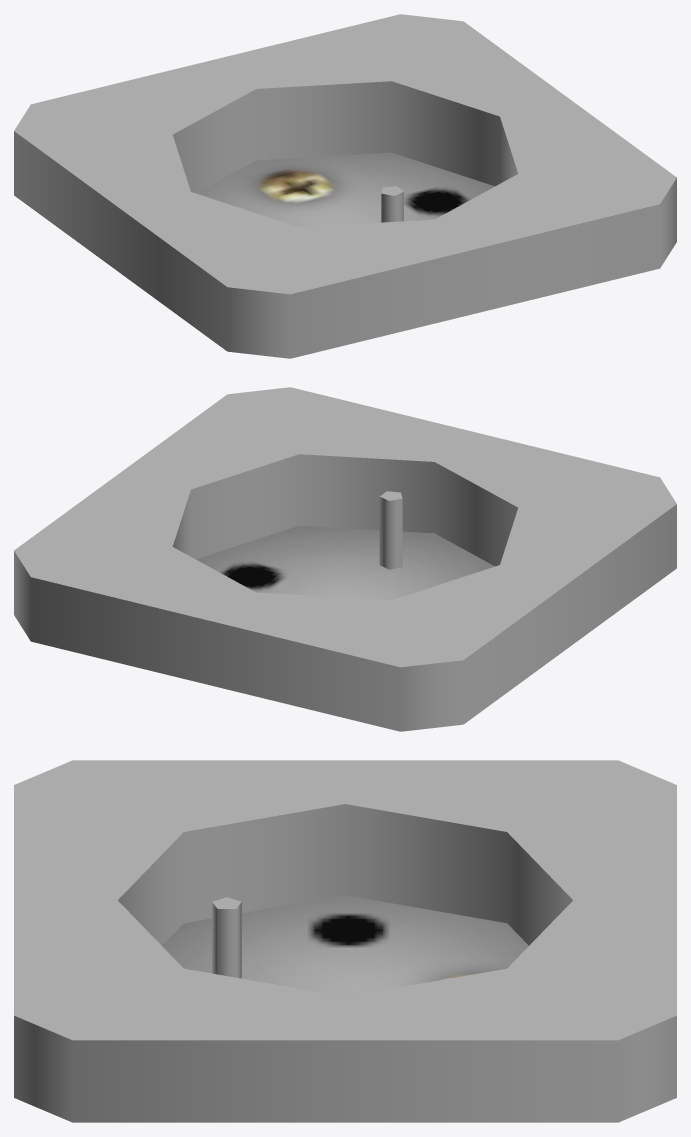
File: socket_power.FBX
3 views of the same model, one above another, from view 1: azimuth 30°, elevation 25°; view 2: azimuth 150°, elevation 25°; view 3: azimuth 270°, elevation 25° (orthographic). The views are drawn at different scales.
Parts seen in each view (by area): view 1: socket_power; view 2: socket_power; view 3: socket_power.
Boxes of the visible parts, box(x1,y1,x2,y2) form: socket_power: box(14, 14, 676, 358); socket_power: box(14, 387, 676, 731); socket_power: box(14, 760, 676, 1122).
Bounding box in the file's own units: 15.21 × 2.74 × 15.21.
